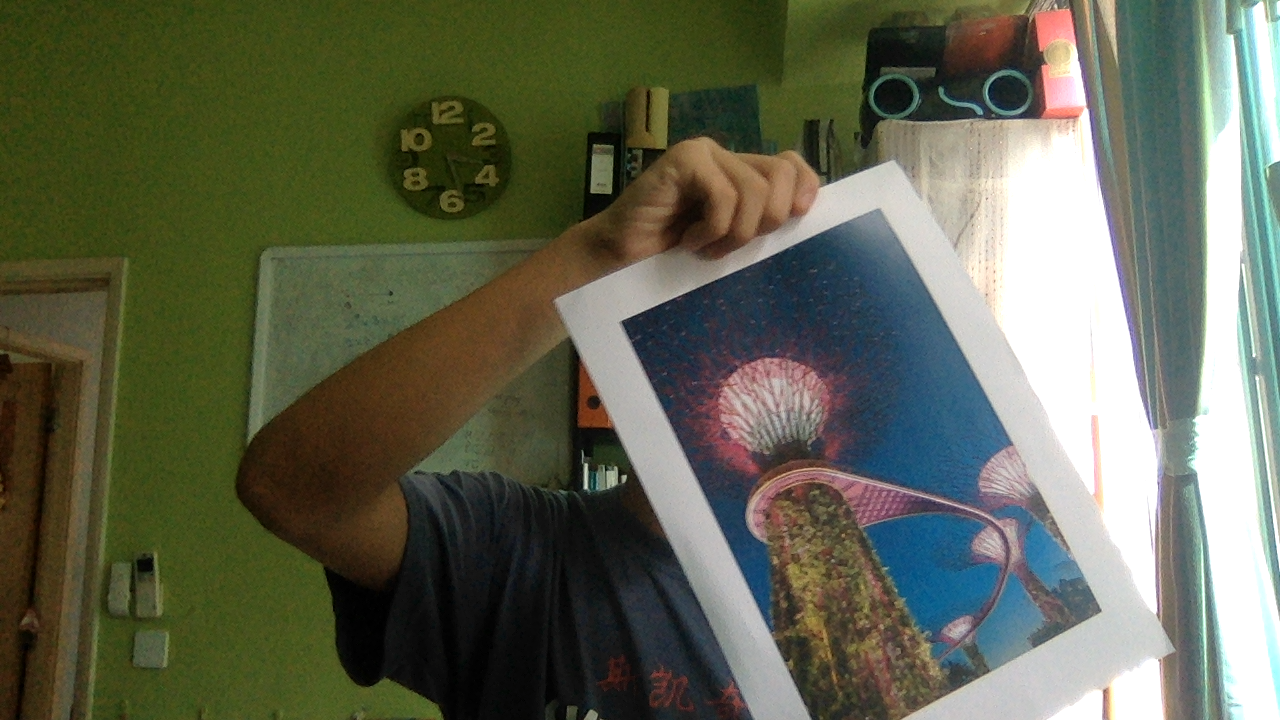GBTB: (618, 206, 1105, 720)
